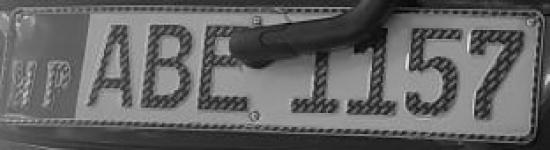1: (341, 24, 405, 124)
5: (406, 25, 464, 123)
7: (466, 22, 532, 126)
A: (85, 19, 139, 112)
B: (138, 17, 195, 116)
E: (198, 17, 264, 115)
N: (5, 56, 39, 118)
P: (41, 57, 76, 116)
